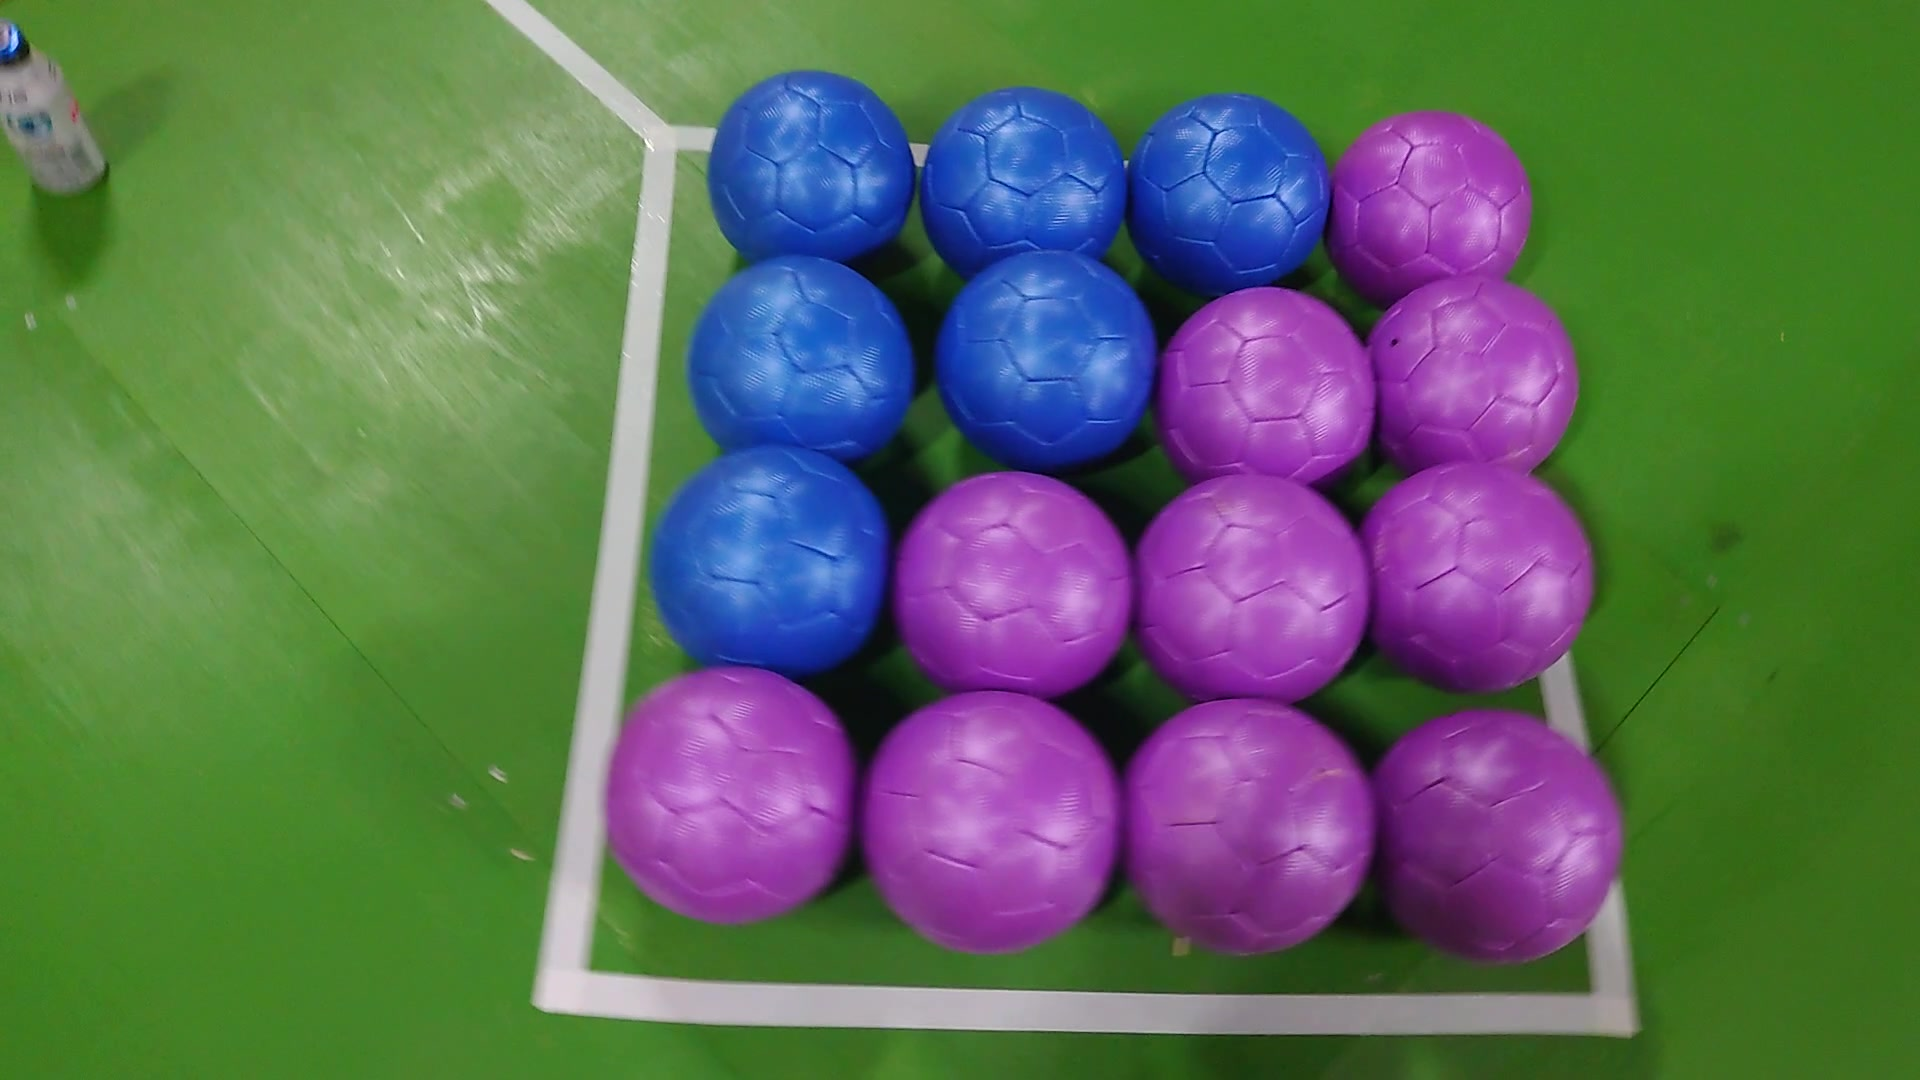blue: (646, 444, 889, 679), (934, 245, 1163, 460), (683, 255, 918, 464), (1124, 91, 1332, 294), (699, 69, 914, 265), (920, 84, 1124, 268)
purple: (858, 688, 1113, 957), (1371, 702, 1626, 960), (601, 666, 852, 927), (1124, 695, 1378, 951), (889, 467, 1130, 692), (1365, 458, 1600, 688), (1133, 471, 1371, 695), (1365, 274, 1584, 471), (1156, 284, 1378, 471), (1325, 111, 1535, 294)
